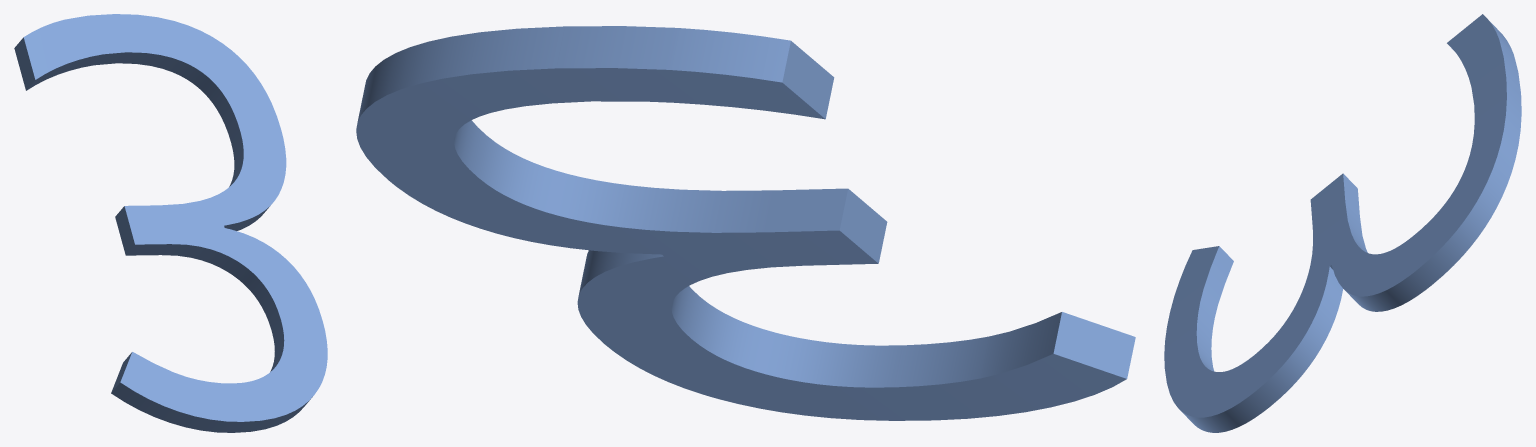
Rendered from New_Number_3.gltf.
3 renders of one model, left to right at view 1: azimuth 30°, elevation 25°; view 2: azimuth 150°, elevation 25°; view 3: azimuth 270°, elevation 25°, orthographic. The views are drawn at different scales.
Parts seen in each view (by area): view 1: Part 408; view 2: Part 408; view 3: Part 408.
Boxes of the visible parts, <box> form: Part 408: <box>14,14,327,432</box>; Part 408: <box>356,26,1135,420</box>; Part 408: <box>1164,14,1521,432</box>.
Size of the model in its own units: 0.00362 by 0.0041 by 0.00387.
